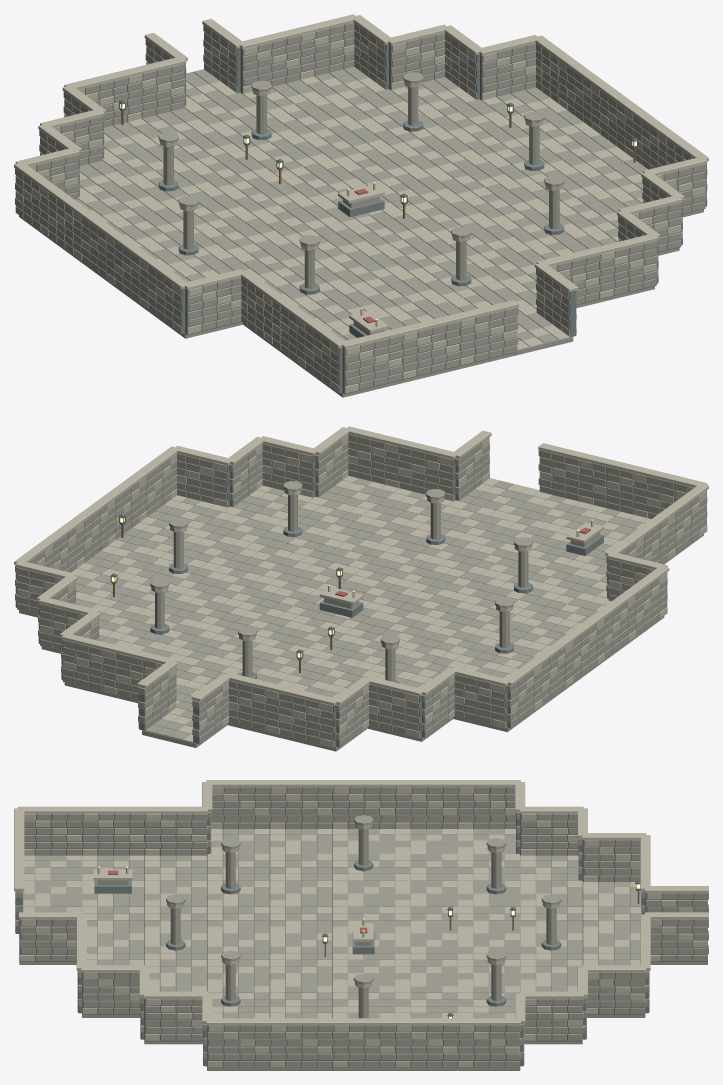
The model's file is tv_19_02_tower_hall.glb.
3 views of the same model, one above another, from view 1: azimuth 30°, elevation 25°; view 2: azimuth 150°, elevation 25°; view 3: azimuth 270°, elevation 25° (orthographic). The views are drawn at different scales.
Parts seen in each view (by area): view 1: wall_0083, wall_0091, wall_0088, wall_0099, wall_0092, wall_0097, wall_0076, wall_0112, wall_0101, wall_0105, wall_0093, wall_0075 (+95 smaller); view 2: wall_0089, wall_0101, wall_0091, wall_0088, wall_0080, wall_0096, wall_0086, wall_0107, wall_0092, wall_0099, wall_0103, wall_0094 (+94 smaller); view 3: wall_0108, wall_0084, wall_0111, wall_0106, wall_0109, wall_0085, wall_0110, wall_0077, wall_0079, wall_0104, wall_0102, wall_0100 (+84 smaller).
Part boxes in pixels (box(x1,y1,x2,y2)): wall_0083: box(340, 328, 403, 393); wall_0091: box(456, 300, 518, 365); wall_0088: box(398, 314, 461, 379); wall_0099: box(595, 234, 658, 299); wall_0092: box(123, 56, 186, 121); wall_0097: box(239, 28, 301, 93); wall_0076: box(185, 269, 245, 334); wall_0112: box(477, 35, 537, 100); wall_0101: box(296, 14, 357, 79); wall_0105: box(388, 24, 448, 90); wall_0093: box(535, 262, 578, 337); wall_0075: box(147, 260, 189, 334); wall_0089: box(279, 686, 338, 748); wall_0101: box(61, 633, 121, 694); wall_0091: box(538, 443, 597, 504); wall_0088: box(593, 456, 651, 517); wall_0080: box(451, 666, 509, 728); wall_0096: box(398, 440, 457, 501); wall_0086: box(365, 676, 424, 738); wall_0107: box(174, 445, 230, 507); wall_0092: box(227, 673, 284, 734); wall_0099: box(347, 426, 403, 487); wall_0103: box(259, 436, 315, 497); wall_0094: box(137, 660, 177, 730); wall_0108: box(269, 1018, 333, 1067); wall_0084: box(81, 806, 145, 855); wall_0111: box(457, 1018, 520, 1067); wall_0106: box(206, 1018, 270, 1067); wall_0109: box(332, 1018, 395, 1067); wall_0085: box(144, 806, 207, 855); wall_0110: box(395, 1018, 458, 1067); wall_0077: box(269, 780, 333, 829); wall_0079: box(395, 780, 458, 829); wall_0104: box(519, 991, 583, 1041); wall_0102: box(143, 991, 207, 1041); wall_0100: box(582, 965, 646, 1014).
Size of the model in its own units: 36.67 by 3.77 by 44.39.
